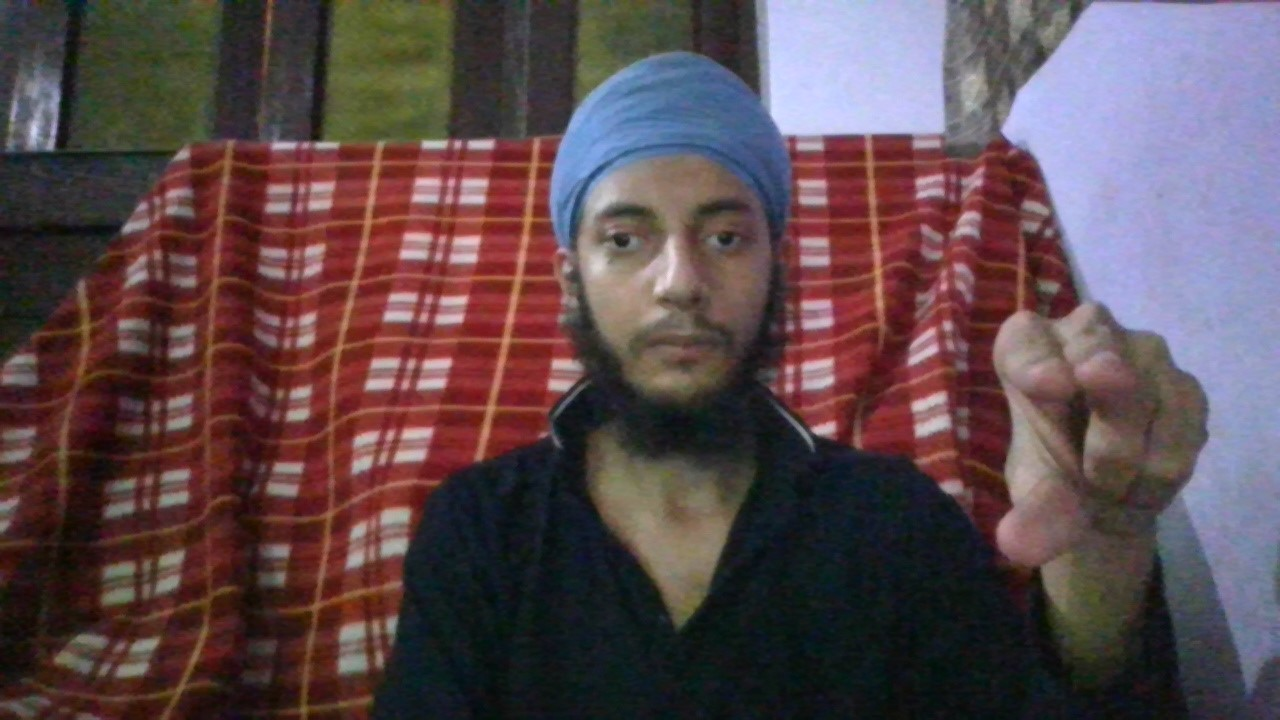No: (990, 299, 1212, 575)
